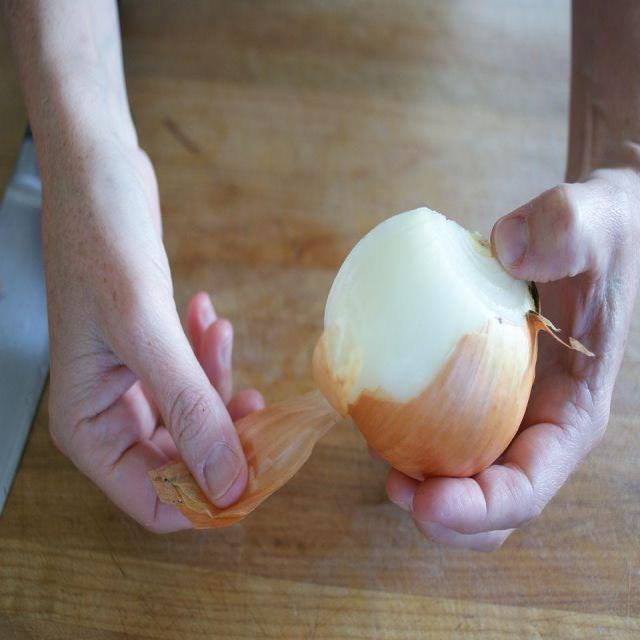Onion: (323, 207, 598, 484), (146, 375, 343, 527)
